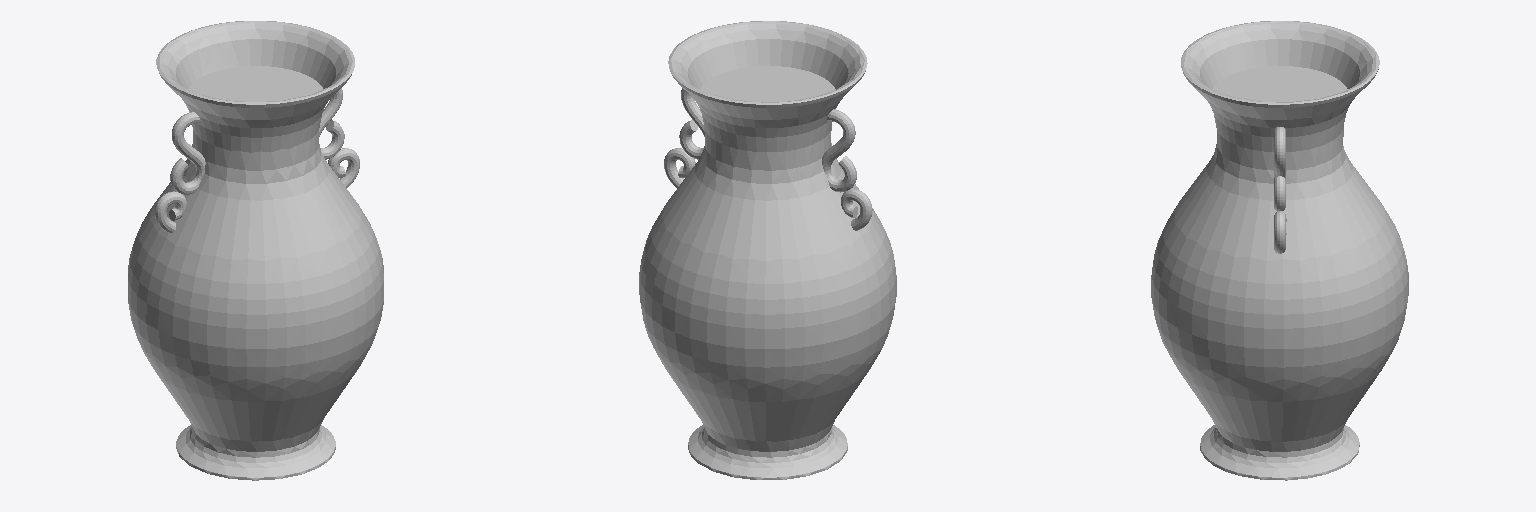
Rendered from jarro_doido.obj.
The picture shows the model from 3 angles: view 1: azimuth 30°, elevation 25°; view 2: azimuth 150°, elevation 25°; view 3: azimuth 270°, elevation 25°; orthographic projection.
Parts seen in each view (by area): view 1: pot_NurbsPath.001; view 2: pot_NurbsPath.001; view 3: pot_NurbsPath.001.
Boxes of the visible parts, <box> form: pot_NurbsPath.001: <box>128,21,383,480</box>; pot_NurbsPath.001: <box>639,21,896,479</box>; pot_NurbsPath.001: <box>1151,21,1408,480</box>.
Bounding box in the file's own units: 16.49 × 27.42 × 16.49.